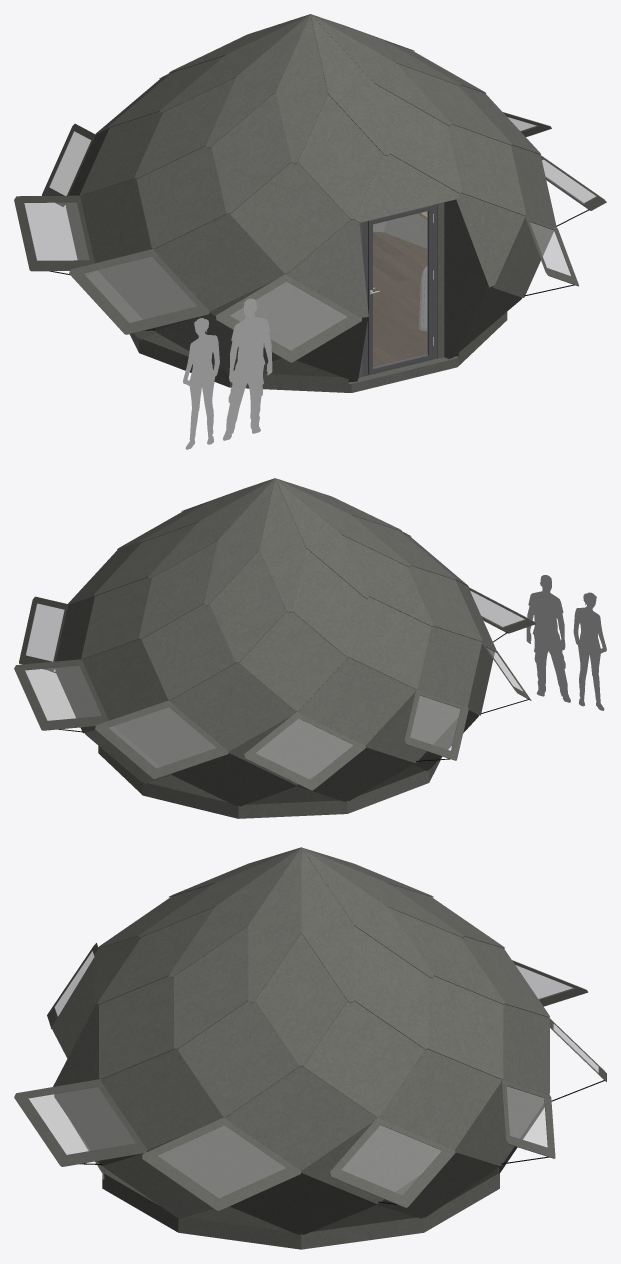
File: zomes-office3-draco.glb
The picture shows the model from 3 angles, top to bottom: view 1: azimuth 30°, elevation 25°; view 2: azimuth 150°, elevation 25°; view 3: azimuth 270°, elevation 25°; orthographic projection. The views are drawn at different scales.
Visible parts, largest first — view 1: entry-center, door, window-glass-c-2.001, panel-wall-d-1, man, window-glass-c-1.001, panel-wall-e-1, panel-wall-f-1, panel-wall-f-2, panel-wall-e-2, window-glass-c-3.001, panel-wall-f-10 (+32 smaller); view 2: entry-center, window-glass-c-5.001, panel-wall-d-3, man, window-glass-c-4.001, panel-wall-d-4, window-glass-c-6.001, panel-wall-e-4, panel-wall-f-5, panel-wall-f-4, panel-wall-e-3, panel-wall-e-5 (+39 smaller); view 3: entry-center, window-glass-c-8.001, panel-wall-d-7, window-glass-c-9.001, panel-wall-e-7, panel-wall-d-8, panel-wall-d-6, panel-wall-e-8, panel-wall-f-8, window-glass-c-7.001, panel-wall-f-9, panel-wall-f-7 (+38 smaller).
Part boxes in pixels (x1,y1,x2,y2): entry-center: (86, 154, 524, 383); door: (362, 204, 437, 376); window-glass-c-2.001: (69, 249, 209, 334); panel-wall-d-1: (153, 214, 285, 310); man: (183, 298, 272, 449); window-glass-c-1.001: (216, 274, 361, 362); panel-wall-e-1: (234, 162, 341, 273); panel-wall-f-1: (299, 94, 383, 219); panel-wall-f-2: (212, 93, 291, 213); panel-wall-e-2: (136, 146, 224, 248); window-glass-c-3.001: (14, 195, 94, 274); panel-wall-f-10: (374, 83, 461, 193); entry-center: (85, 710, 478, 810); window-glass-c-5.001: (95, 700, 228, 778); panel-wall-d-3: (297, 658, 415, 744); man: (526, 575, 606, 710); window-glass-c-4.001: (244, 712, 365, 790); panel-wall-d-4: (169, 665, 292, 750); window-glass-c-6.001: (14, 659, 108, 732); panel-wall-e-4: (240, 611, 340, 711); panel-wall-f-5: (209, 550, 285, 662); panel-wall-f-4: (292, 548, 363, 657); panel-wall-e-3: (350, 596, 431, 689); panel-wall-e-5: (146, 604, 232, 700); entry-center: (51, 936, 544, 1239); window-glass-c-8.001: (142, 1117, 301, 1210); panel-wall-d-7: (227, 1066, 374, 1169); window-glass-c-9.001: (14, 1079, 147, 1166); panel-wall-e-7: (302, 1001, 419, 1116); panel-wall-d-8: (100, 1049, 223, 1149); panel-wall-d-6: (378, 1049, 501, 1149); panel-wall-e-8: (179, 1001, 299, 1116); panel-wall-f-8: (255, 933, 347, 1066); window-glass-c-7.001: (329, 1117, 455, 1207); panel-wall-f-9: (174, 926, 248, 1048); panel-wall-f-7: (354, 926, 428, 1049).
Size of the model in its own units: 6.87 by 3.82 by 6.54.
19 materials, 8 textured.
